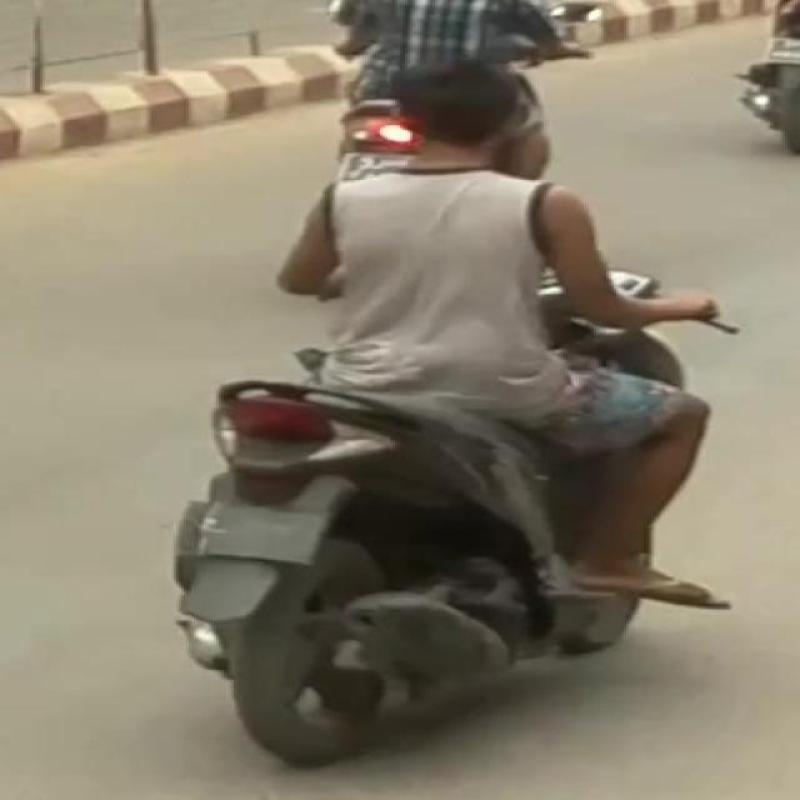nohelmet: (356, 52, 580, 162)
